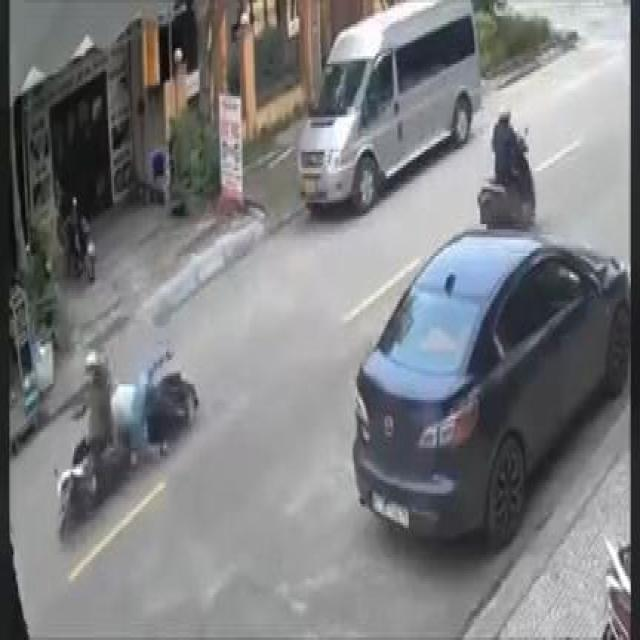accident: (49, 327, 203, 548)
non_accident: (346, 100, 630, 575)
